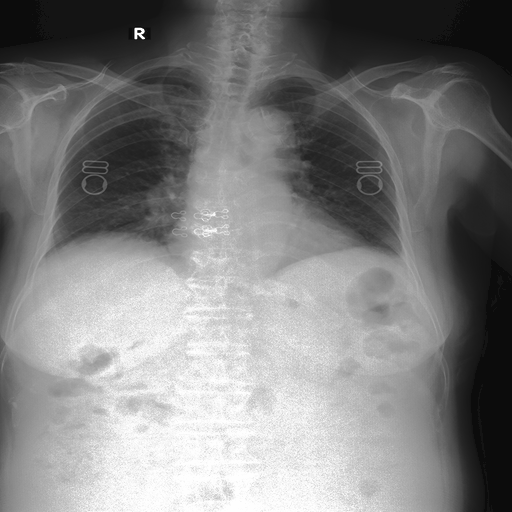Calcification: (396, 243, 414, 279)
Consolidation: (242, 106, 296, 167)
Nodule/Mass: (156, 214, 375, 269)
Pleural effusion: (396, 243, 414, 279)
